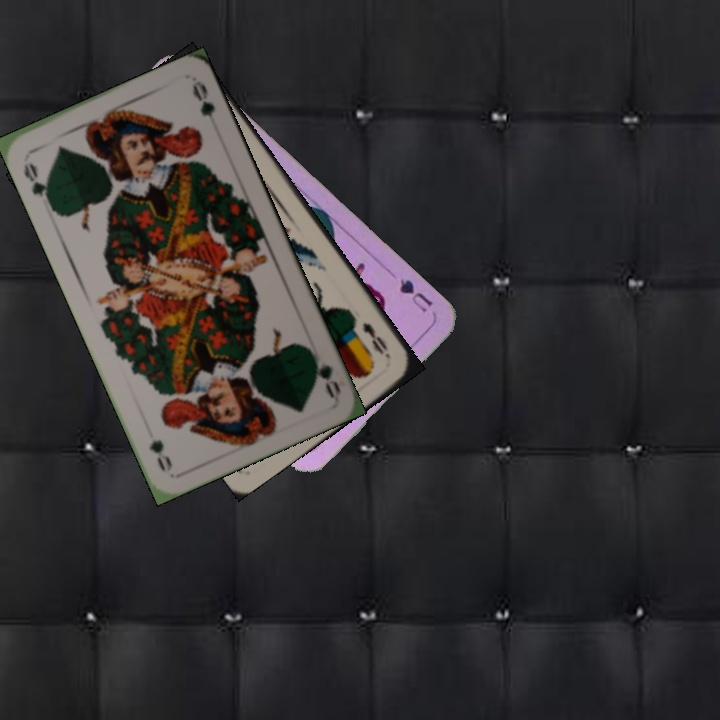EO: (358, 318, 393, 362)
GO: (305, 345, 344, 400), (19, 159, 54, 207)
GU: (395, 274, 436, 316)
